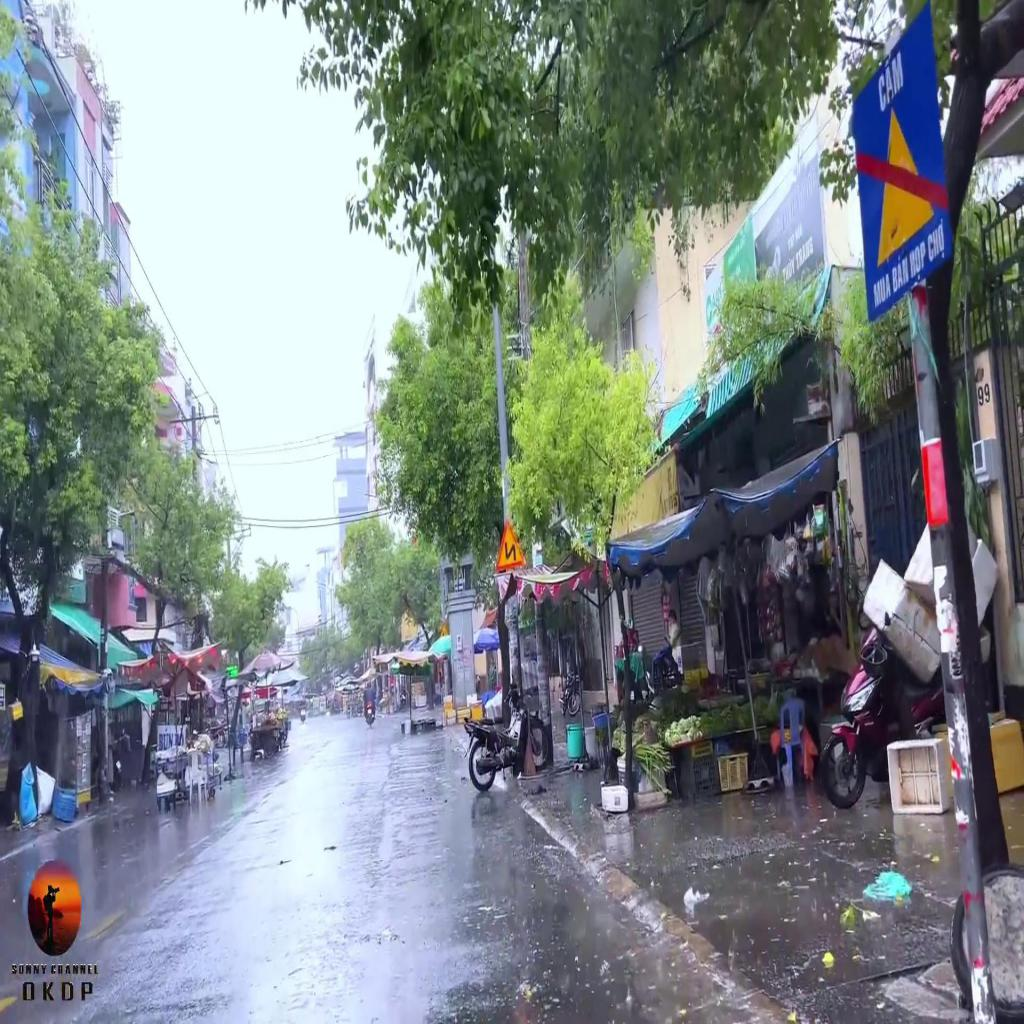cho_ngoat_nguy_hiem_lien_tiep: (492, 516, 529, 572)
khac: (850, 0, 954, 325)
